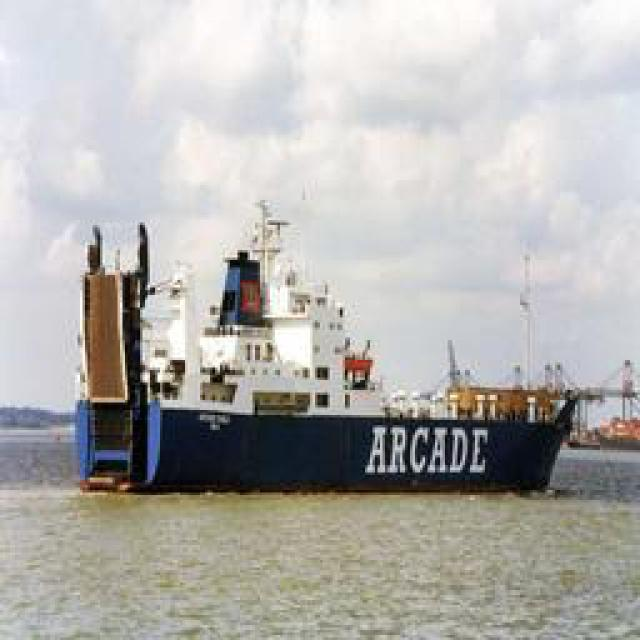Ship: (77, 191, 547, 496)
